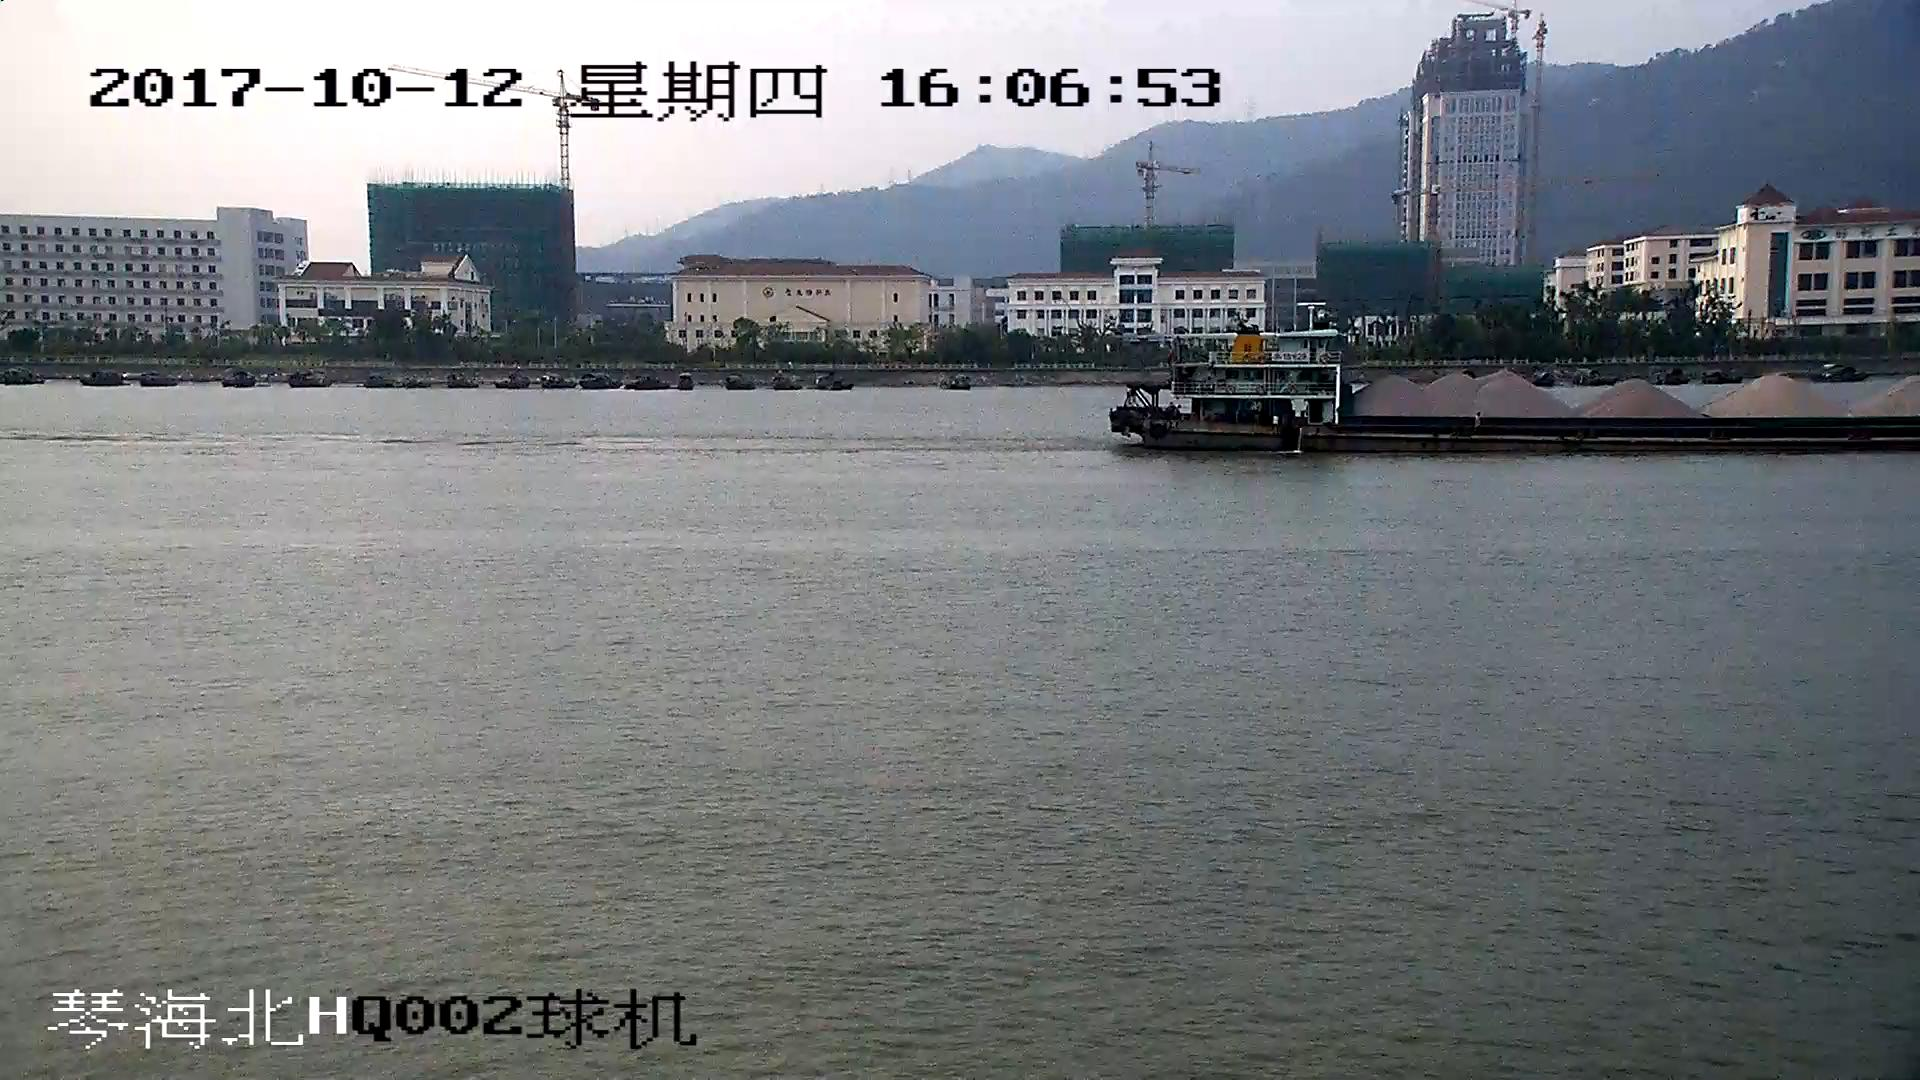ore carrier: (1114, 334, 1920, 457)
